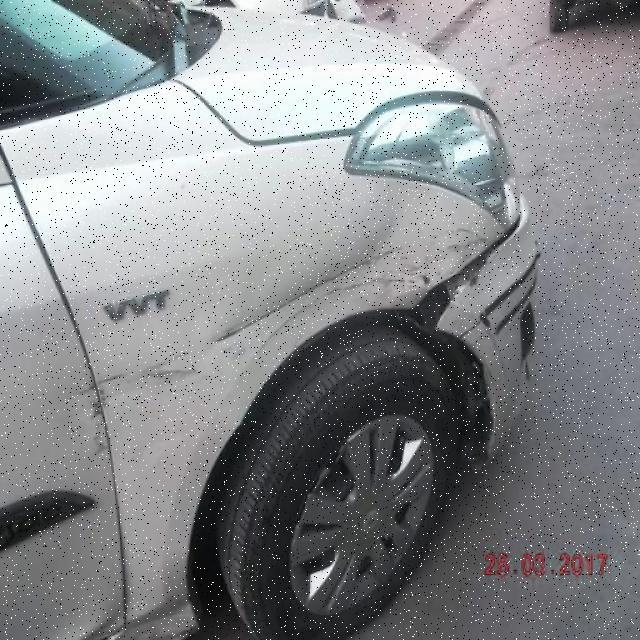car damage: (212, 227, 494, 360), (410, 215, 518, 352), (71, 594, 204, 640), (81, 366, 130, 460), (135, 351, 203, 392)
